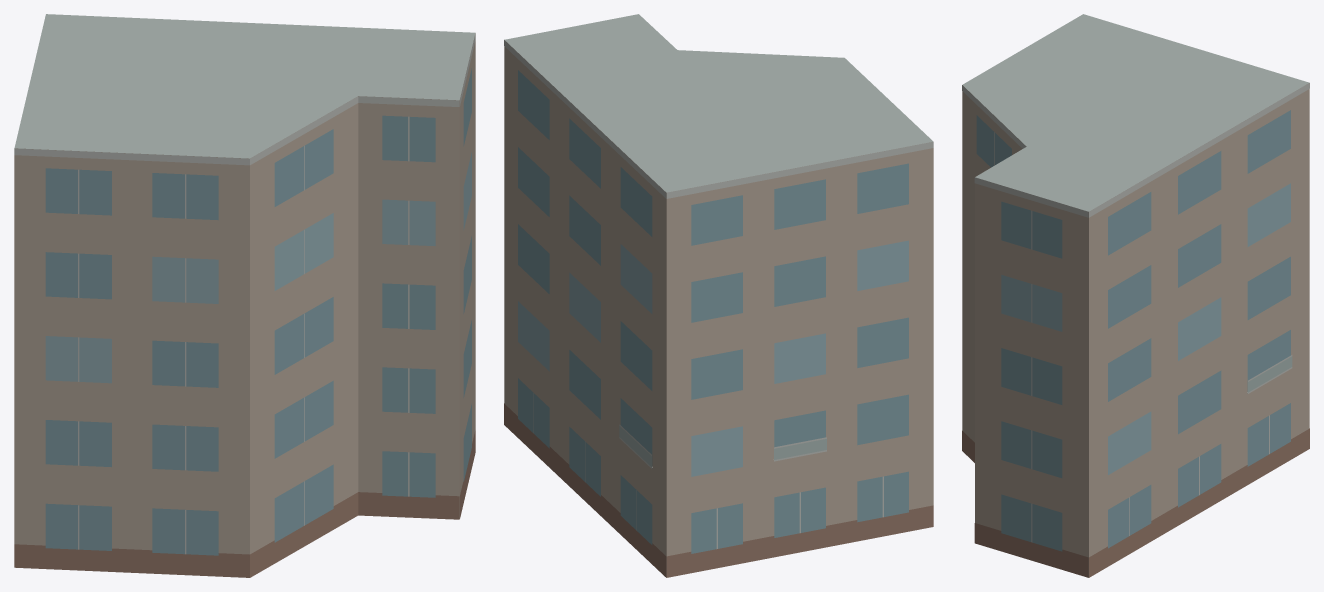
Rendered from survey-upis-33039428.glb.
The picture shows the model from 3 angles, left to right: view 1: azimuth 30°, elevation 25°; view 2: azimuth 150°, elevation 25°; view 3: azimuth 270°, elevation 25°; orthographic projection. The views are drawn at different scales.
Visible parts, largest first — view 1: survey-upis-33039428.tmp; view 2: survey-upis-33039428.tmp; view 3: survey-upis-33039428.tmp.
Boxes of the visible parts, x1,y1,x2,y2 form: survey-upis-33039428.tmp: (14, 14, 475, 577); survey-upis-33039428.tmp: (504, 14, 933, 577); survey-upis-33039428.tmp: (962, 14, 1309, 577).
Bounding box in the file's own units: 17.22 × 14.85 × 12.79.
